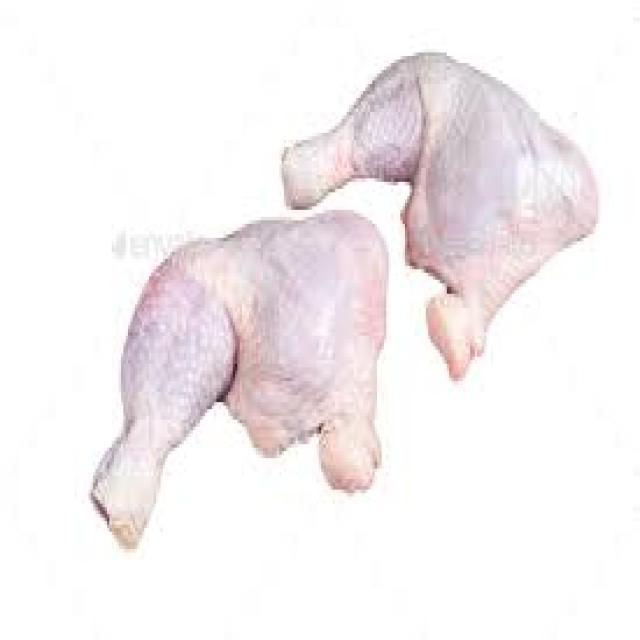quater: (94, 195, 384, 570)
